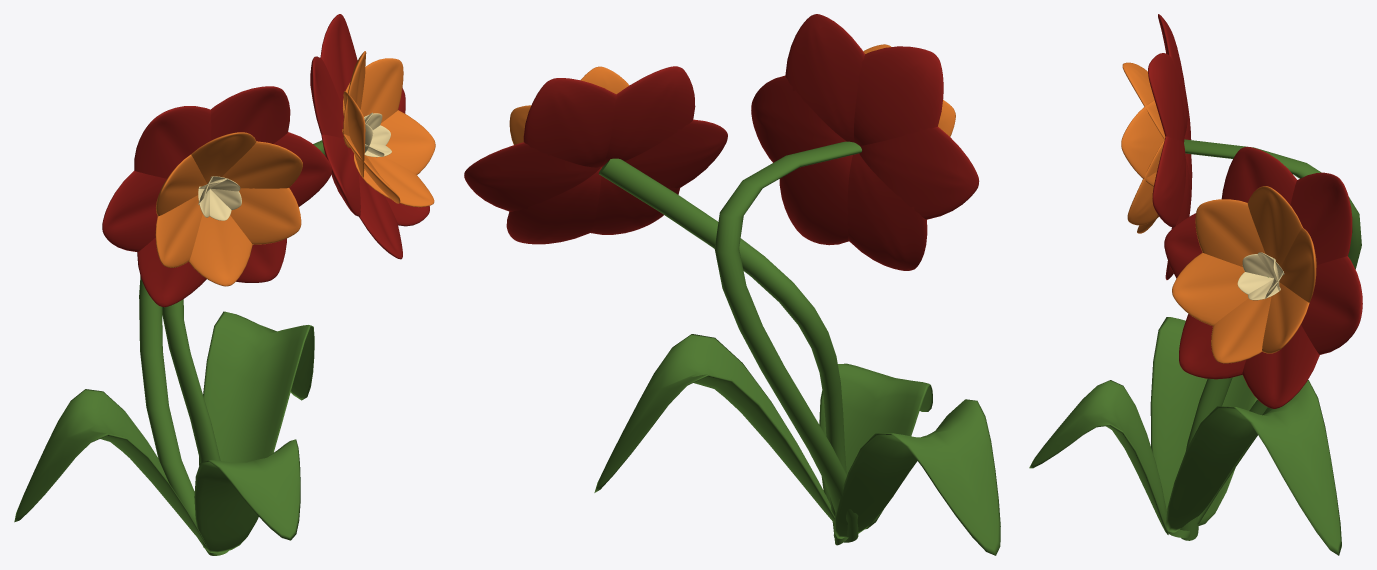
Rendered from flower6.glb.
3 views of the same model, side by side, from view 1: azimuth 30°, elevation 25°; view 2: azimuth 150°, elevation 25°; view 3: azimuth 270°, elevation 25° (orthographic). The views are drawn at different scales.
Parts seen in each view (by area): view 1: flower, Plane, flower.001, BézierCurve, BézierCurve.001; view 2: flower, flower.001, Plane, BézierCurve, BézierCurve.001; view 3: flower.001, Plane, flower, BézierCurve, BézierCurve.001.
Boxes of the visible parts, <box> form: flower: <box>102,86,331,307</box>; Plane: <box>14,311,314,553</box>; flower.001: <box>310,14,435,259</box>; BézierCurve: <box>139,276,228,555</box>; BézierCurve.001: <box>162,140,325,462</box>; flower: <box>751,14,979,270</box>; flower.001: <box>464,66,727,244</box>; Plane: <box>594,334,1000,555</box>; BézierCurve: <box>714,141,861,542</box>; BézierCurve.001: <box>598,158,848,545</box>; flower.001: <box>1164,146,1362,408</box>; Plane: <box>1029,317,1341,555</box>; flower: <box>1121,14,1192,279</box>; BézierCurve: <box>1168,139,1361,537</box>; BézierCurve.001: <box>1180,277,1268,540</box>.
Bounding box in the file's own units: 0.3706 × 0.376 × 0.23.
